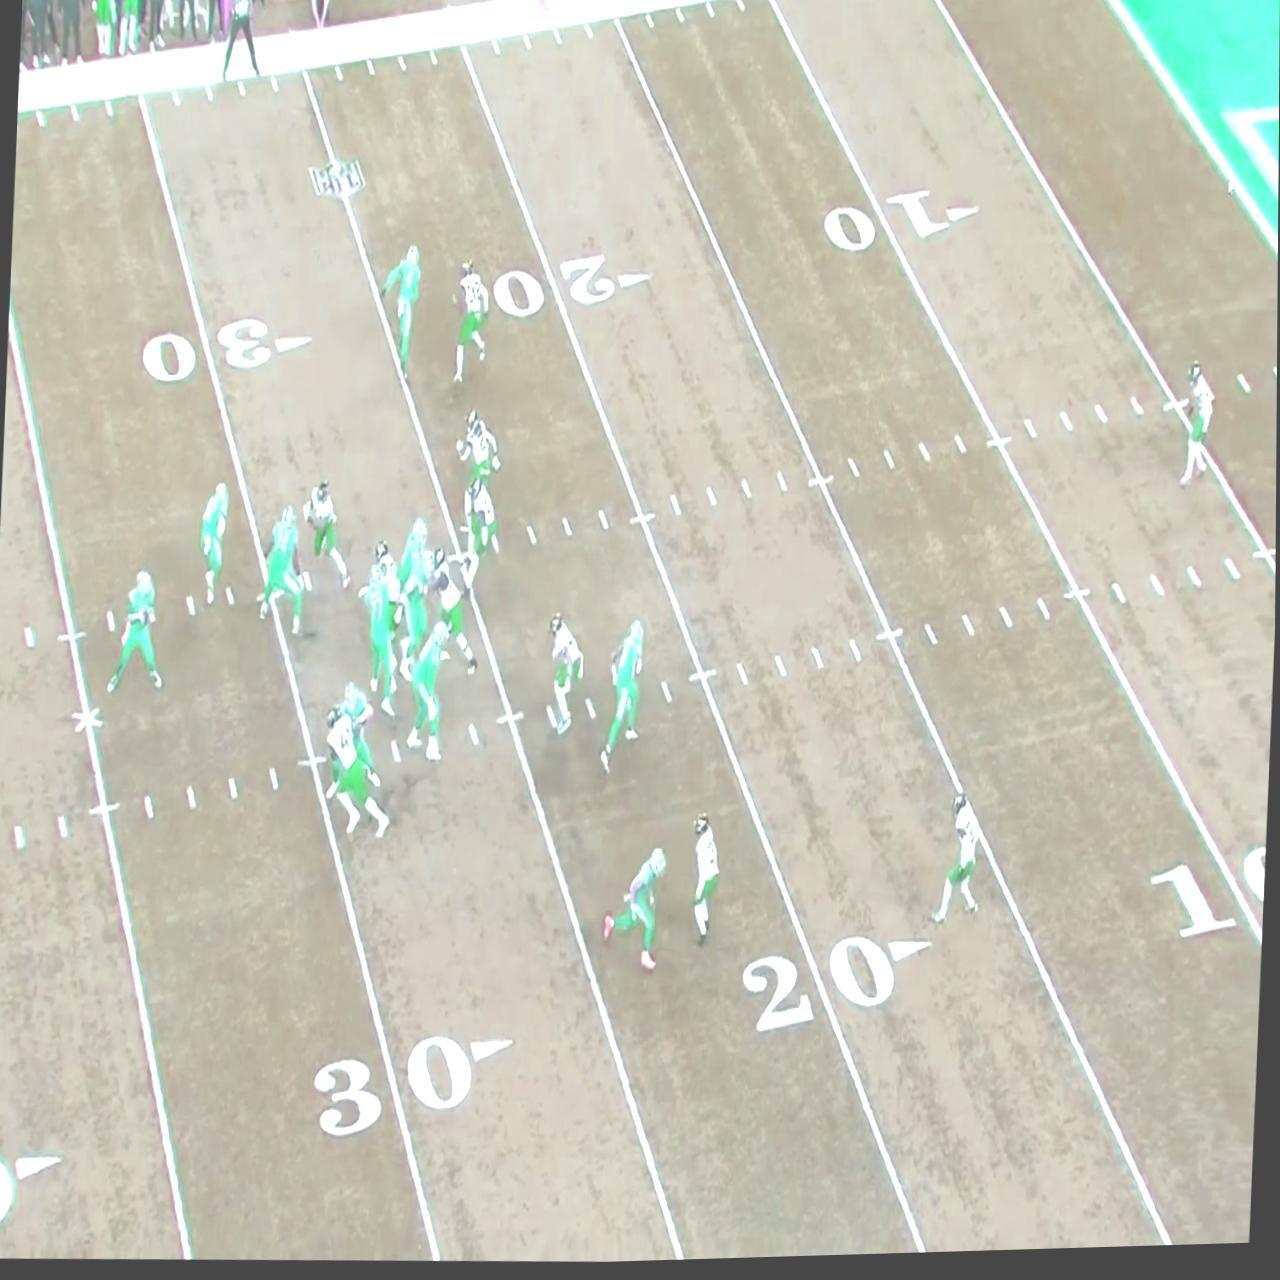10R: (1150, 847, 1267, 948), (825, 192, 979, 261)
20R: (742, 934, 932, 1044), (491, 250, 652, 327)
30R: (312, 1030, 516, 1148), (142, 312, 313, 389)
